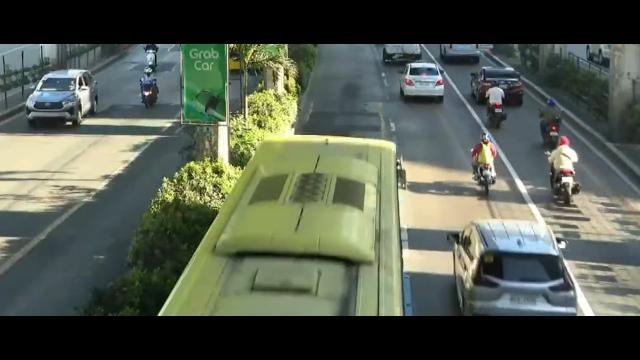bus: (153, 135, 420, 316)
car: (449, 219, 578, 315), (28, 69, 98, 127), (399, 58, 447, 102), (471, 68, 522, 104)
motorcycle: (544, 136, 581, 206), (470, 131, 498, 196), (537, 98, 565, 147), (484, 81, 507, 130), (138, 67, 160, 109), (142, 44, 159, 72)
